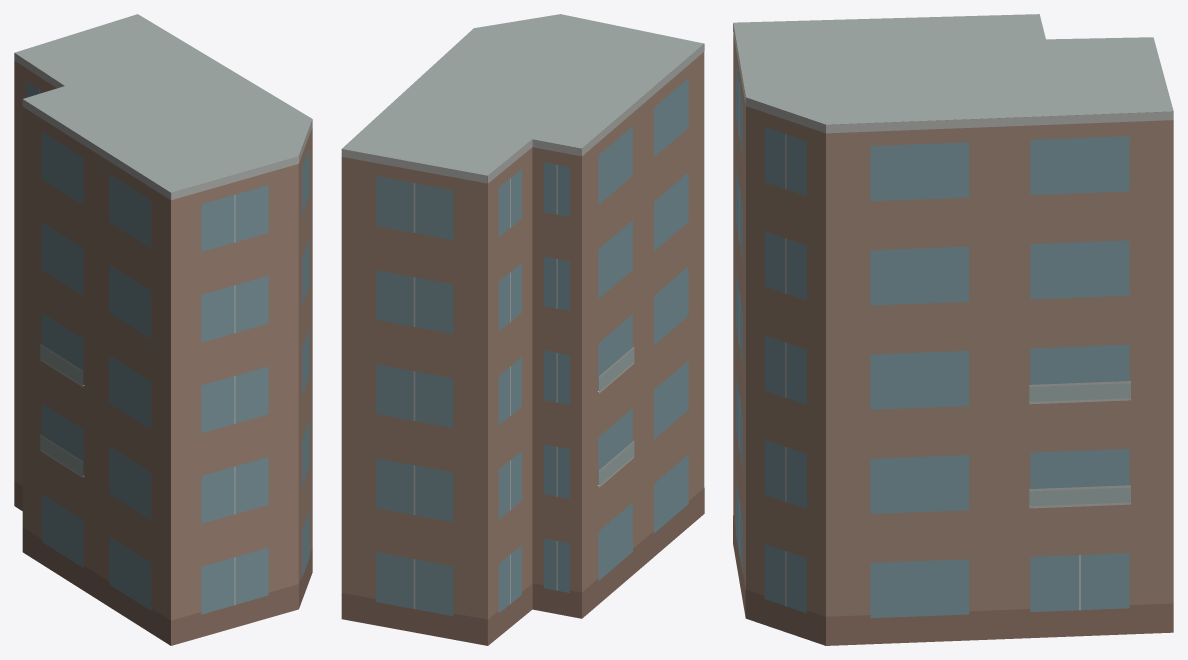
Rendered from survey-upis-32681527.glb.
The picture shows the model from 3 angles, left to right: view 1: azimuth 30°, elevation 25°; view 2: azimuth 150°, elevation 25°; view 3: azimuth 270°, elevation 25°; orthographic projection. The views are drawn at different scales.
Visible parts, largest first — view 1: survey-upis-32681527.tmp; view 2: survey-upis-32681527.tmp; view 3: survey-upis-32681527.tmp.
Part boxes in pixels (x1,y1,x2,y2): survey-upis-32681527.tmp: [14, 14, 312, 645]; survey-upis-32681527.tmp: [341, 14, 704, 645]; survey-upis-32681527.tmp: [733, 14, 1173, 645].
Size of the model in its own units: 6.66 by 14.6 by 11.19.
